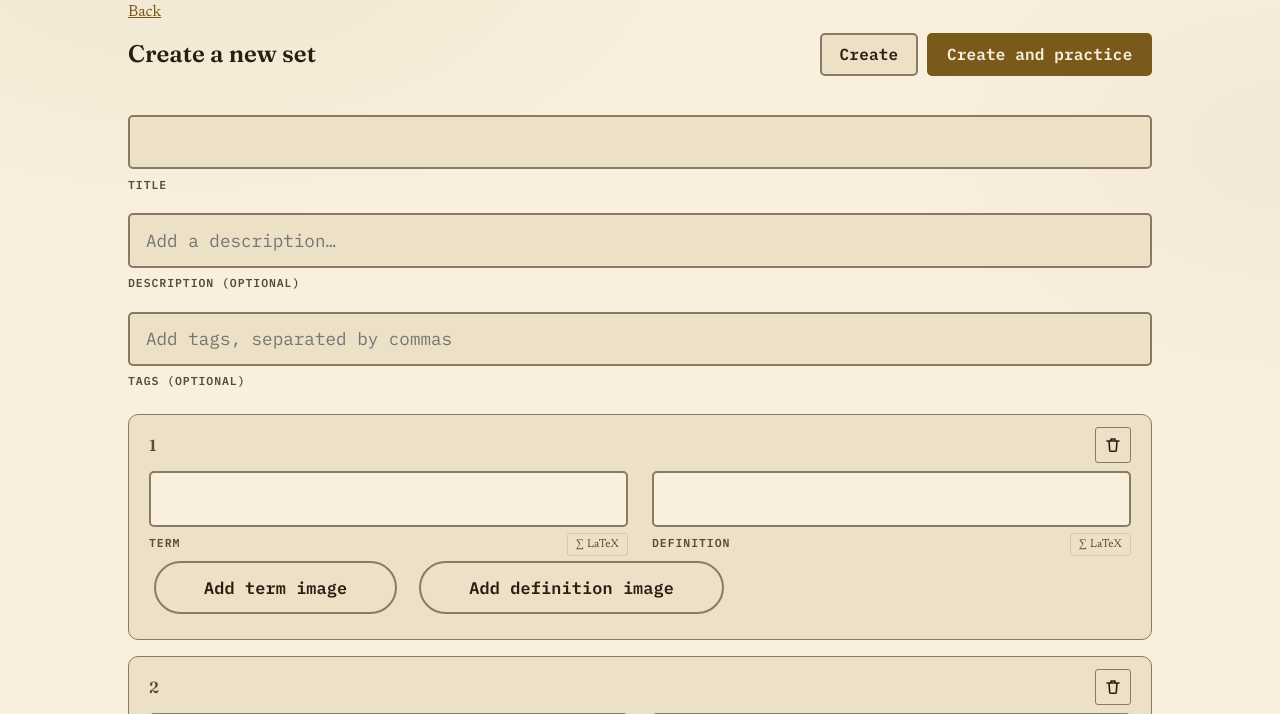
Test case: LaTeX in the card editor › wraps the selected text
In the text box named "Definition for card 1": [892, 499] box 652,471 -> 1131,527, type "x^2"
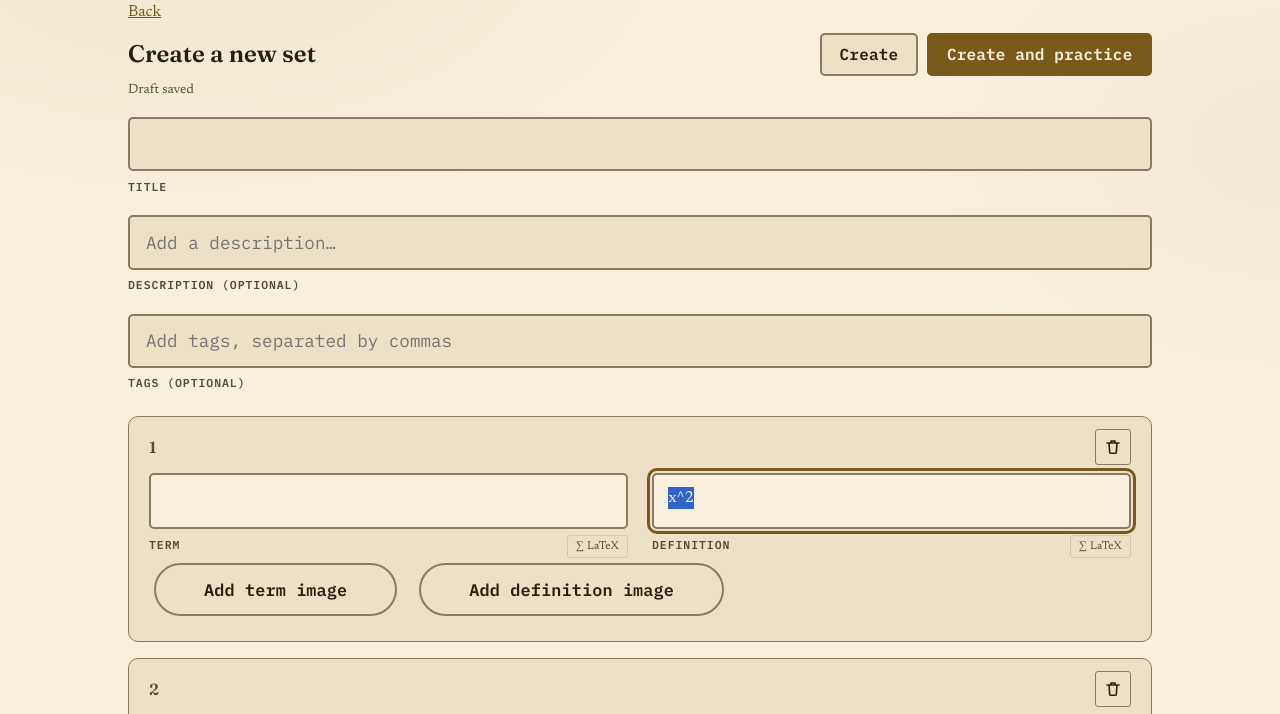
Click the button with aria-label "Insert a LaTeX formula in the definition for card 1": [1100, 547] box 1070,535 -> 1131,558
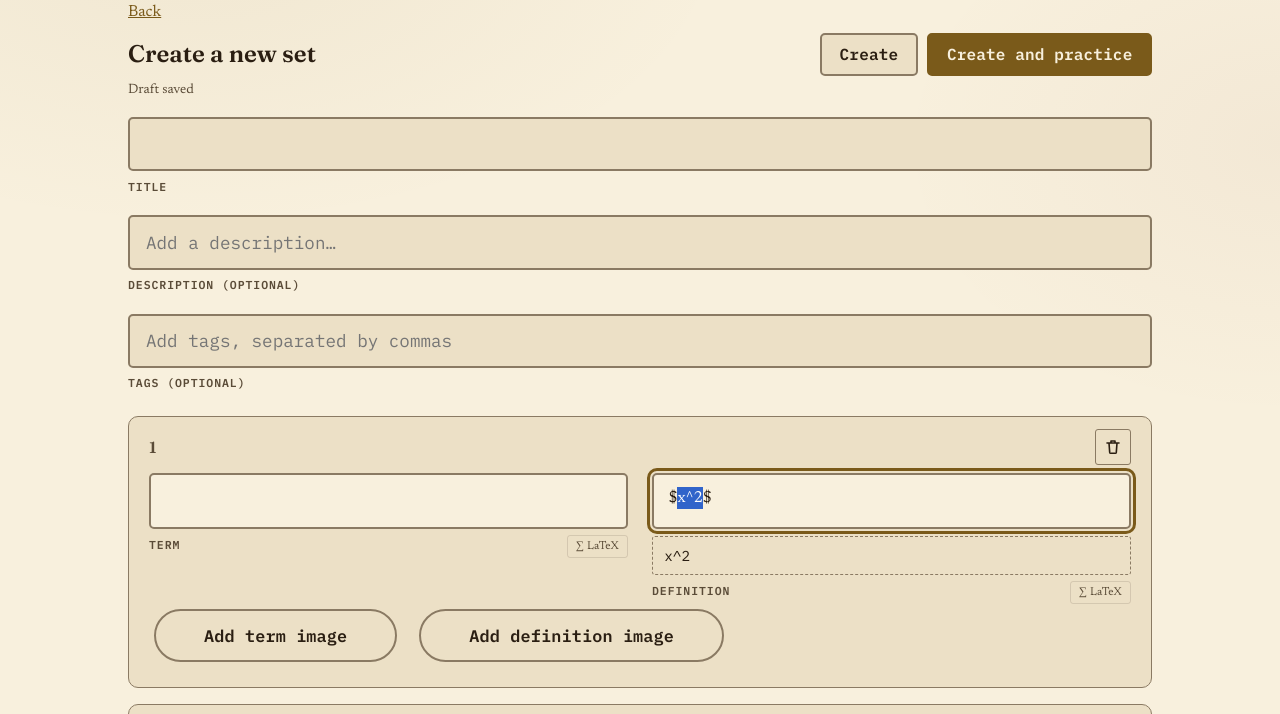
Now the text box named "Definition for card 1" holds "$x^2$", box 652,473 -> 1131,529
